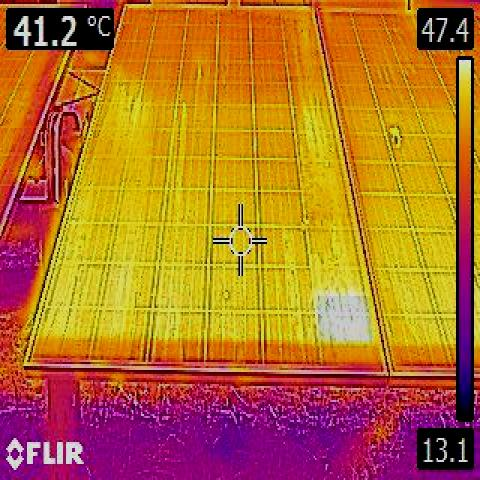fault: (318, 296, 372, 348)
